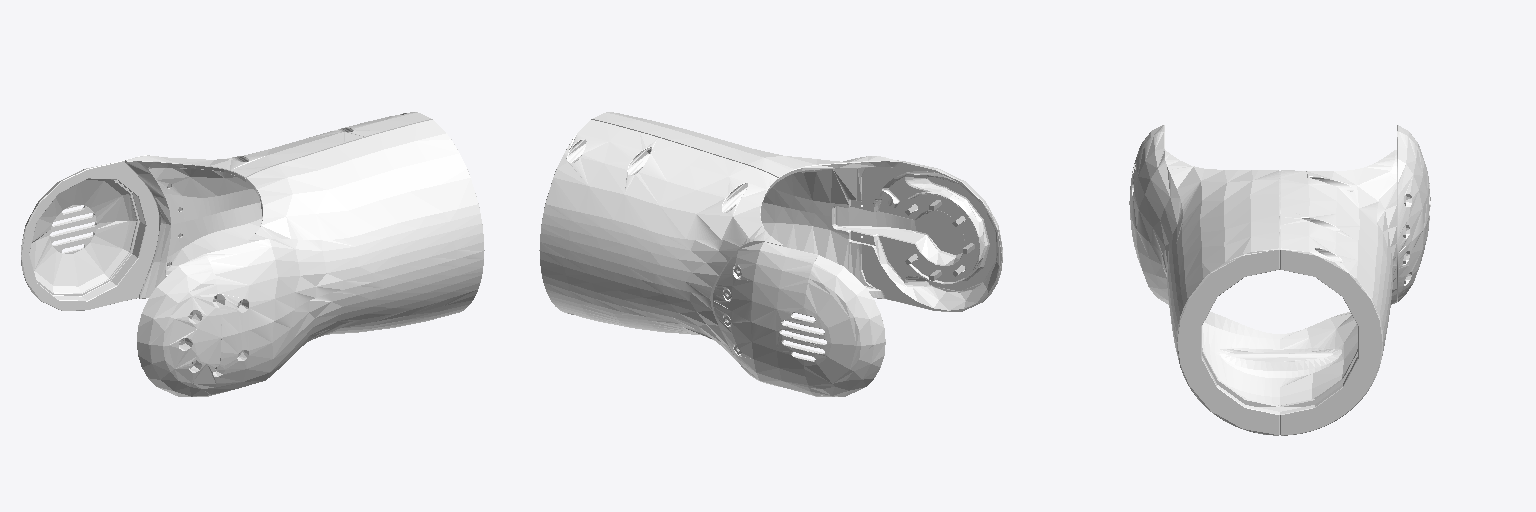
Rendered from arm_sho2_ex.obj.
3 views of the same model, side by side, from view 1: azimuth 30°, elevation 25°; view 2: azimuth 150°, elevation 25°; view 3: azimuth 270°, elevation 25° (orthographic).
Visible parts, largest first — view 1: arm_sho2_ex; view 2: arm_sho2_ex; view 3: arm_sho2_ex.
Part boxes in pixels (bbox=[...]): arm_sho2_ex: bbox=[21, 112, 484, 396]; arm_sho2_ex: bbox=[539, 112, 1002, 396]; arm_sho2_ex: bbox=[1129, 125, 1430, 435].
Size of the model in its own units: 0.2277 by 0.1151 by 0.1675.